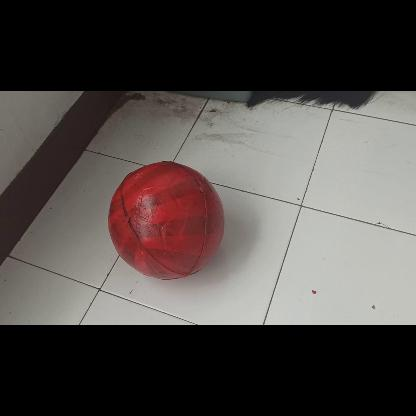red_ball: (107, 160, 228, 280)
